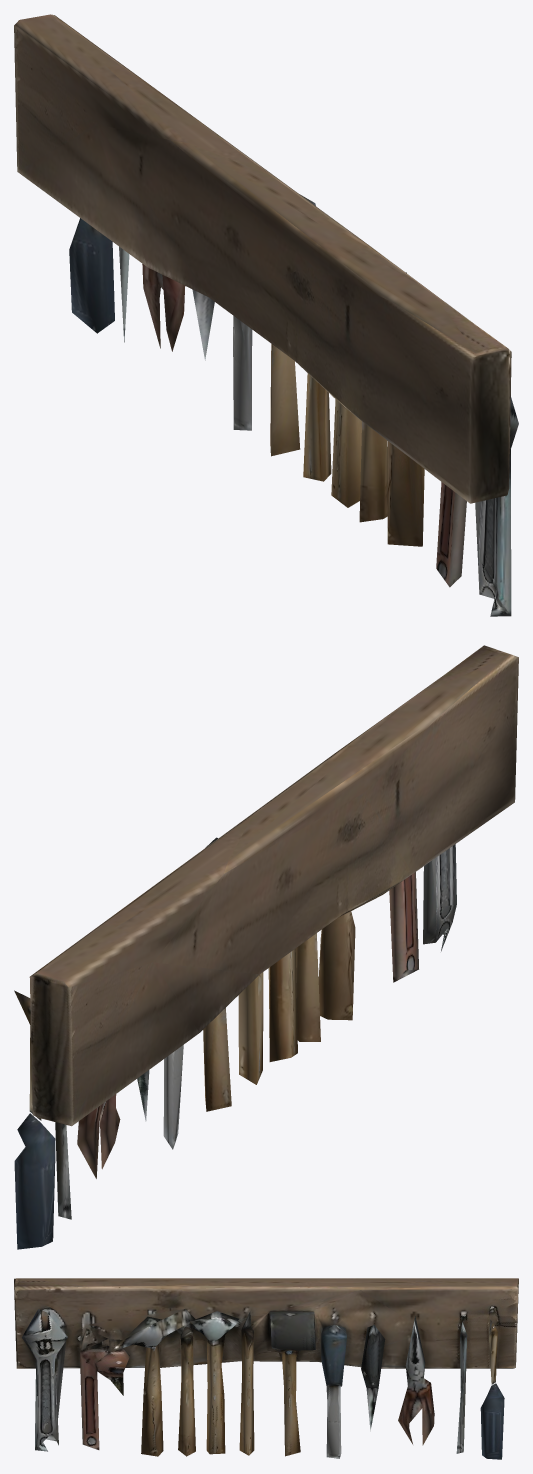
File: tripo_convert_e0c32742-df53-491d-96e9-627fd6dc4b66.fbx
3 renders of one model, top to bottom at view 1: azimuth 30°, elevation 25°; view 2: azimuth 150°, elevation 25°; view 3: azimuth 270°, elevation 25°, orthographic. The views are drawn at different scales.
Parts seen in each view (by area): view 1: tripo_node_e0c32742; view 2: tripo_node_e0c32742; view 3: tripo_node_e0c32742.
Part boxes in pixels (x1=…): tripo_node_e0c32742: x1=14, y1=14, x2=518, y2=616; tripo_node_e0c32742: x1=14, y1=645, x2=518, y2=1249; tripo_node_e0c32742: x1=14, y1=1278, x2=518, y2=1459.
Size of the model in its own units: 0.1218 by 0.3645 by 0.9995.
Materials: 1 (1 with a texture image).
